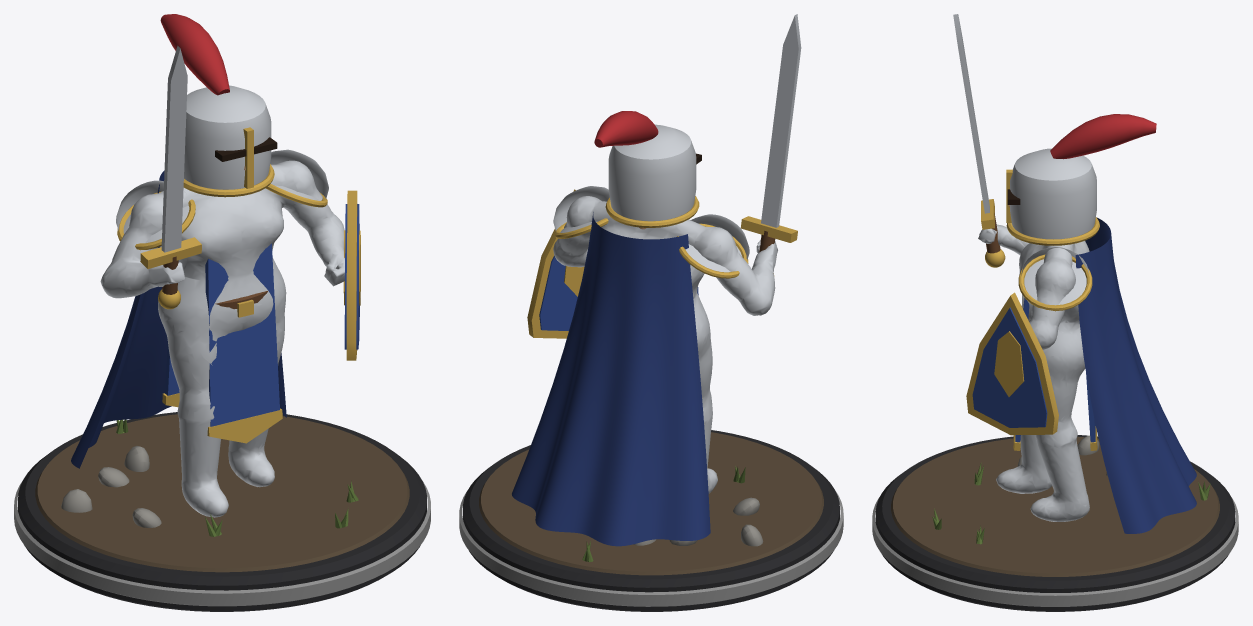
The model's file is knight.glb.
3 views of the same model, side by side, from view 1: azimuth 30°, elevation 25°; view 2: azimuth 150°, elevation 25°; view 3: azimuth 270°, elevation 25° (orthographic). The views are drawn at different scales.
Visible parts, largest first — view 1: knight; view 2: knight; view 3: knight.
Boxes of the visible parts, x1,y1,x2,y2 form: knight: (14,14,430,611); knight: (459,14,843,611); knight: (872,14,1238,611).
Bounding box in the file's own units: 0.8557 × 1.24 × 0.8558.
